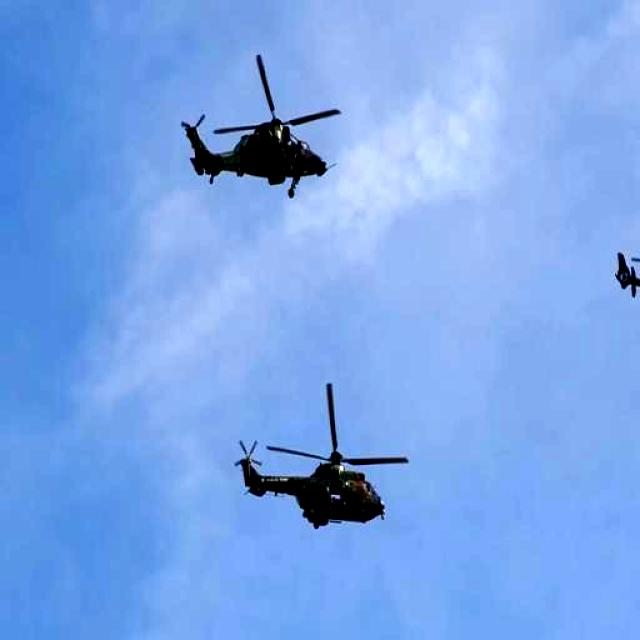drone: (179, 39, 348, 218), (238, 359, 402, 542), (595, 190, 640, 339)
